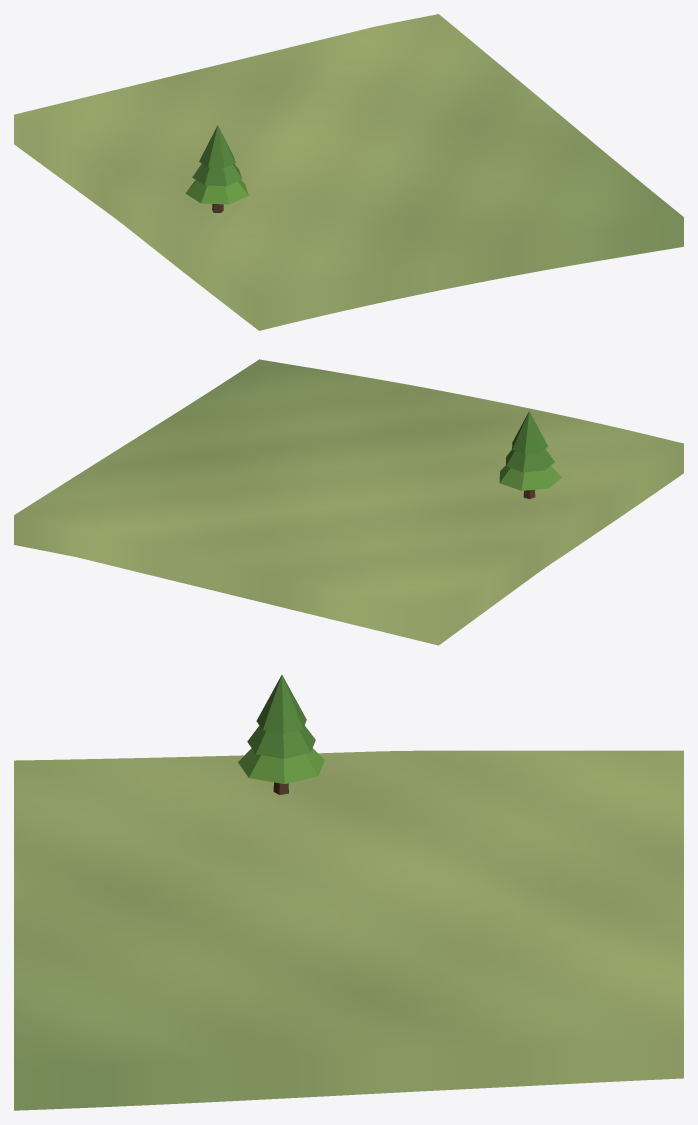
The picture shows the model from 3 angles, top to bottom: view 1: azimuth 30°, elevation 25°; view 2: azimuth 150°, elevation 25°; view 3: azimuth 270°, elevation 25°; orthographic projection. The views are drawn at different scales.
Parts seen in each view (by area): view 1: terrain, scenery; view 2: terrain, scenery; view 3: terrain, scenery.
Boxes of the visible parts, left/top/right/bottom form: terrain: left=14, top=14, right=683, bottom=330; scenery: left=185, top=125, right=248, bottom=212; terrain: left=14, top=359, right=683, bottom=645; scenery: left=499, top=411, right=561, bottom=498; terrain: left=14, top=750, right=683, bottom=1110; scenery: left=238, top=675, right=324, bottom=794.
Size of the model in its own units: 30 by 9.44 by 30.
